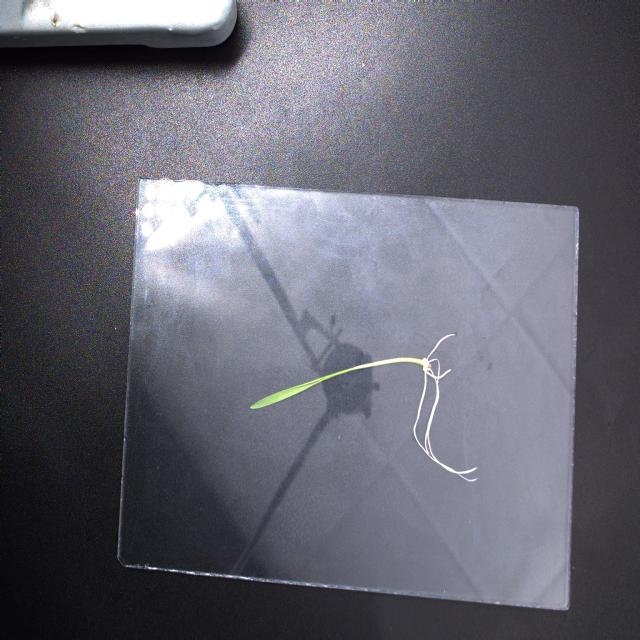leaf: (251, 358, 424, 409)
root: (414, 334, 477, 482)
